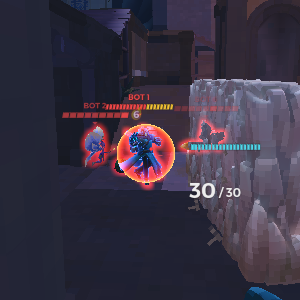model: (129, 124, 163, 197), (79, 126, 114, 166), (195, 119, 217, 147)
